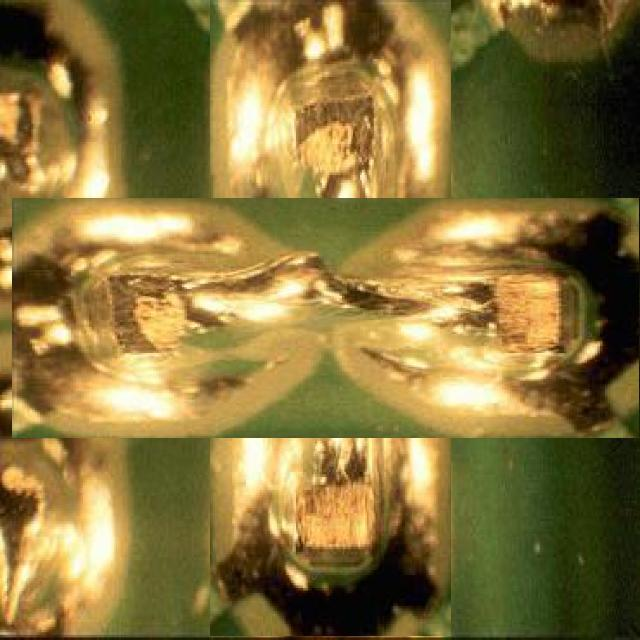Short_circuit: (13, 198, 640, 438)
